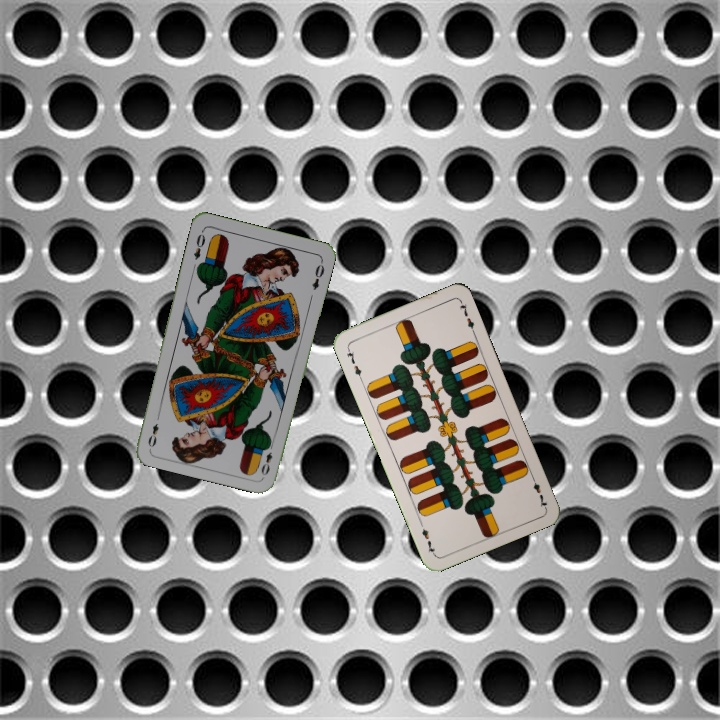E7: (527, 471, 550, 510), (343, 344, 365, 383)
EO: (257, 438, 276, 478), (190, 227, 208, 262)
